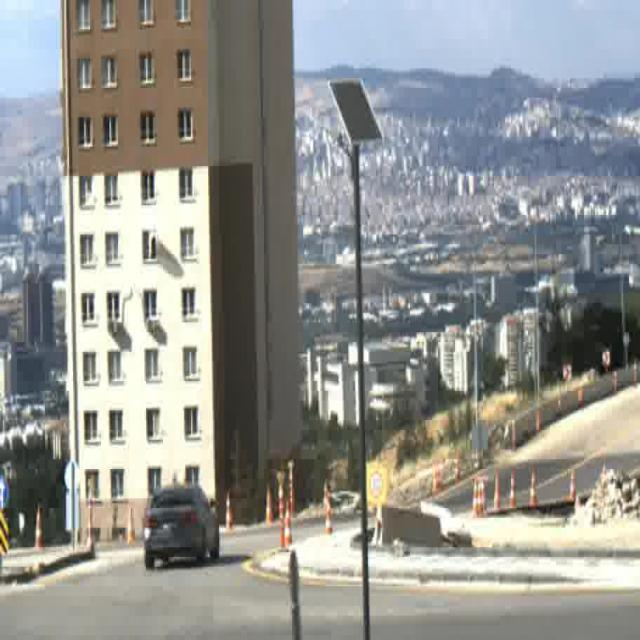Car: (143, 485, 219, 570)
